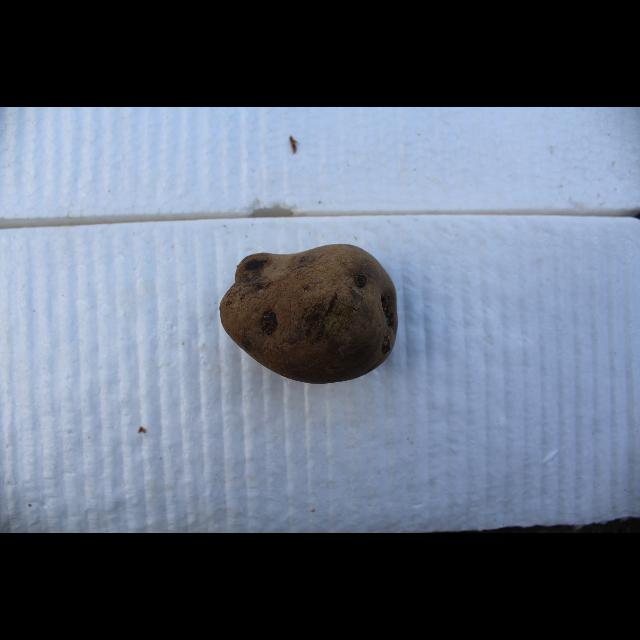Diseased-fungal potato: (218, 242, 400, 384)
